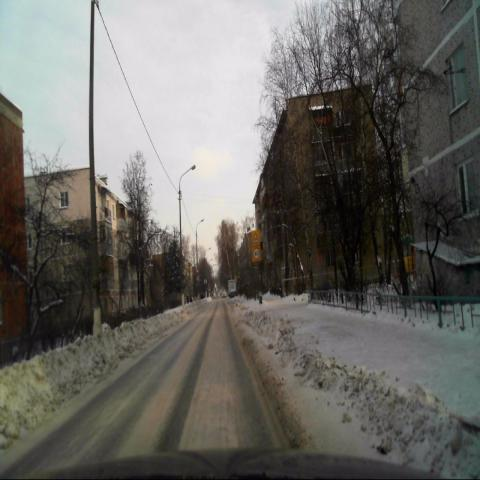1_23: (251, 230, 260, 245)
3_24: (252, 245, 260, 262)
